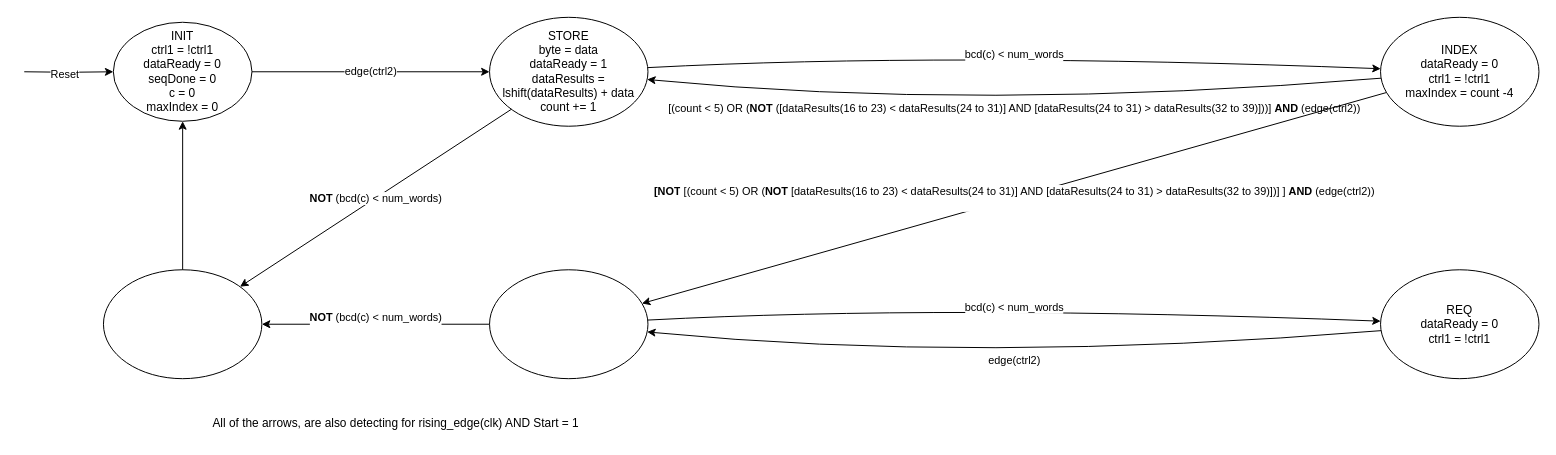
Image size: 1556x455. Some labels were removed from this diagram. Each missing label, with the centre of its shape:
DONE seqDone = 1: the point at 182,324
GET byte = data dataReady = 1 count += 1: the point at 568,324
